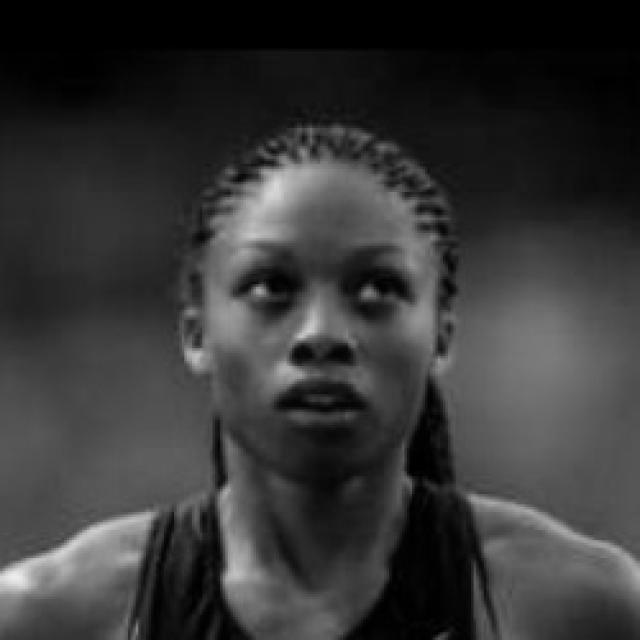real: (174, 136, 490, 502), (206, 253, 433, 330)
